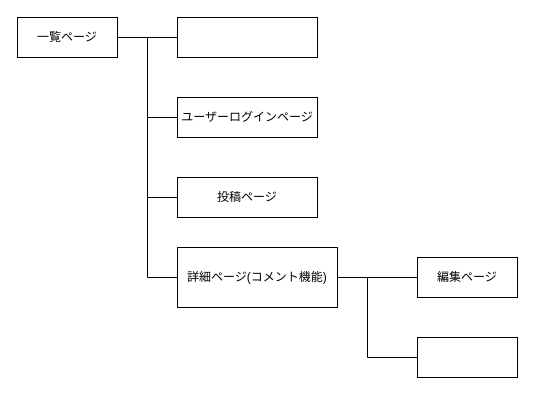
Some shapes in this 535 by 395 pixel diagram are drawn without their labels. The shapes that lost their labels are listed below. From the top down, each one's centre as x and y in pixels, then its label:
At (247,37): "ユーザー新規登録ページ".
At (467,357): "削除機能".
